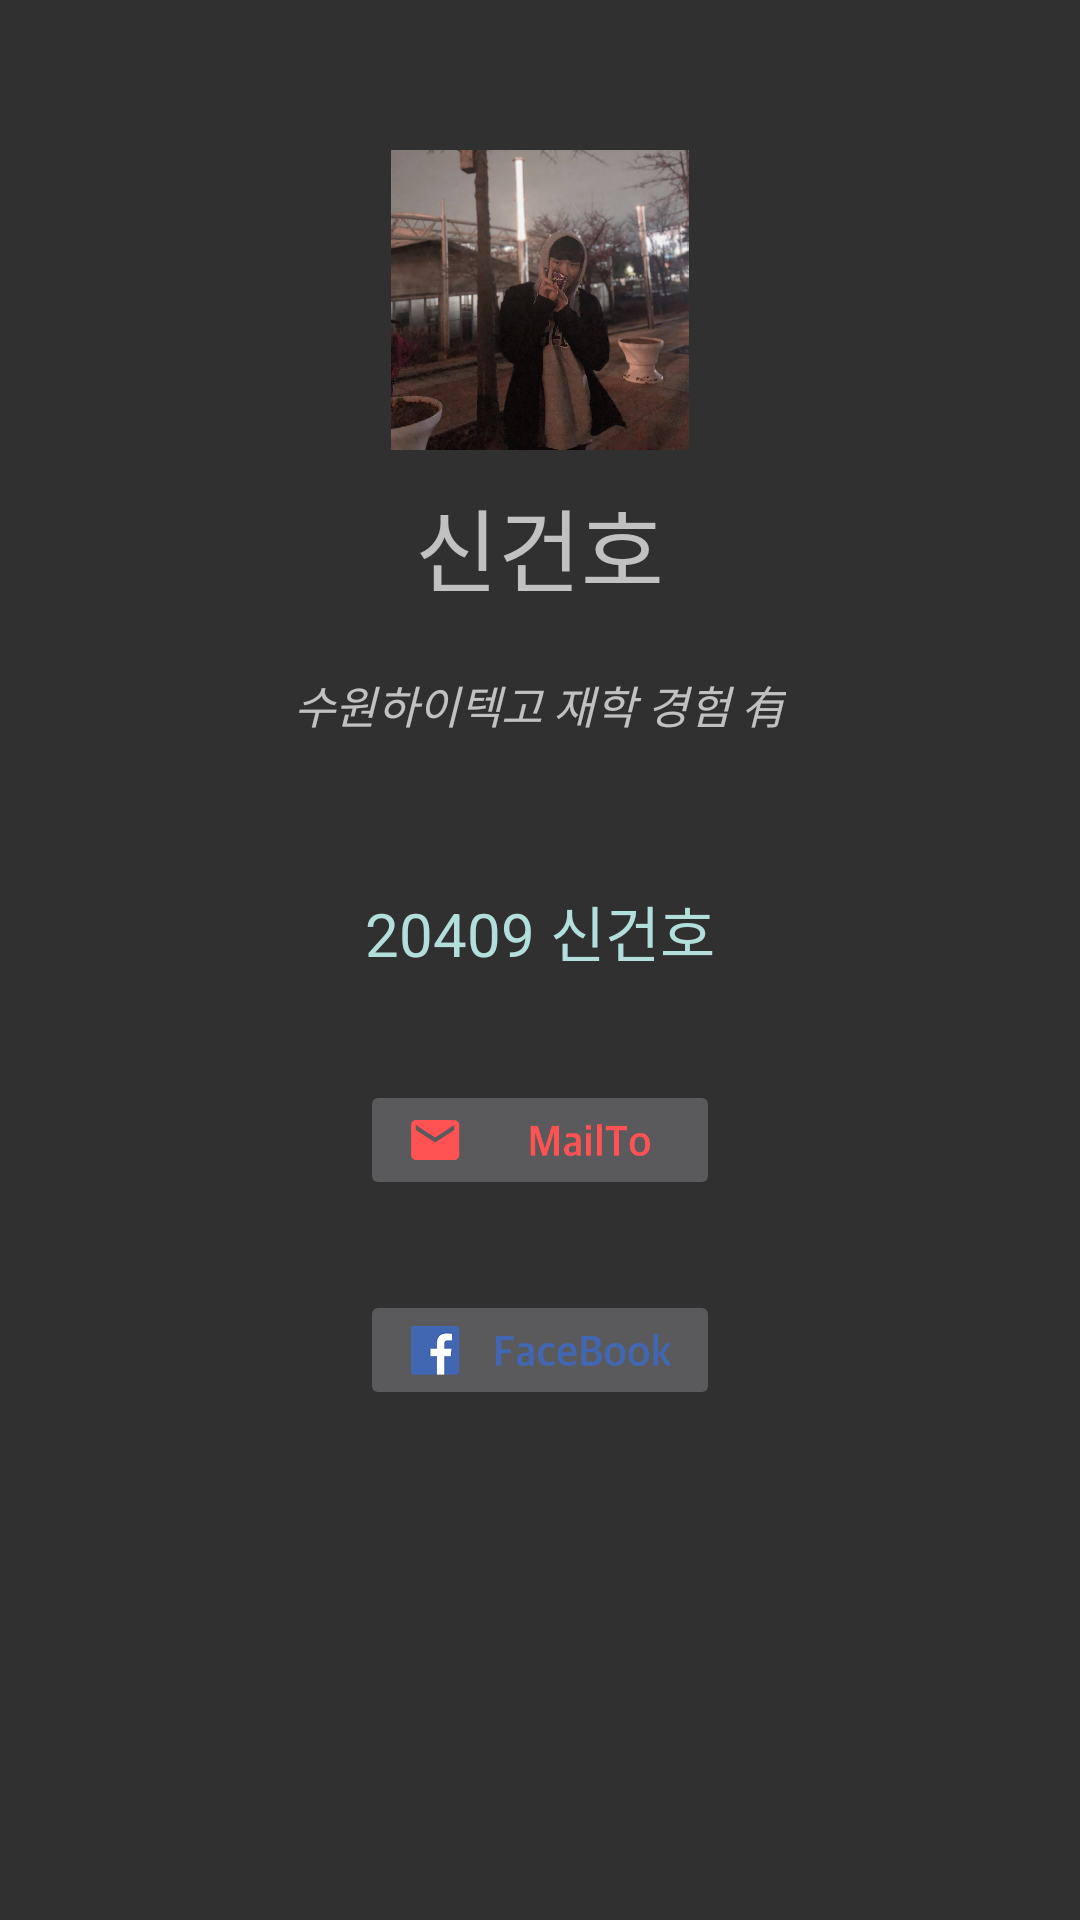

Where icons sit on this 1080w x 1920h app screen, as (x1=x1, y1=y1, x2=x2, y2=y2):
profile: (x1=391, y1=150, x2=689, y2=450)
